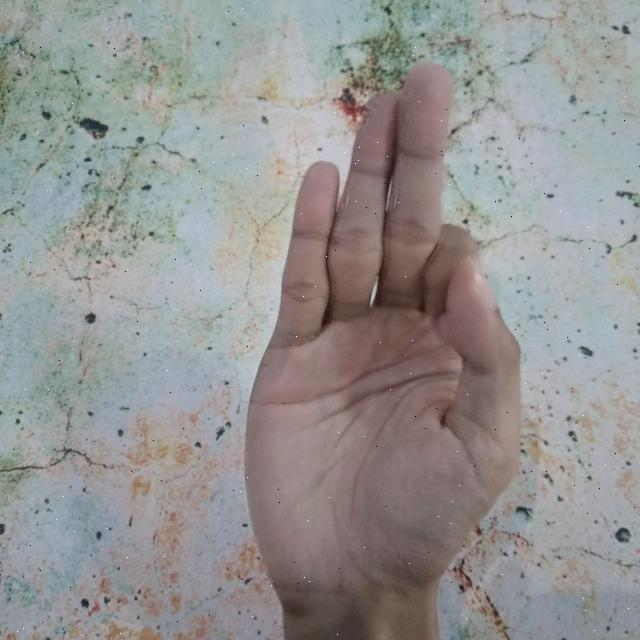F: (242, 58, 530, 640)
